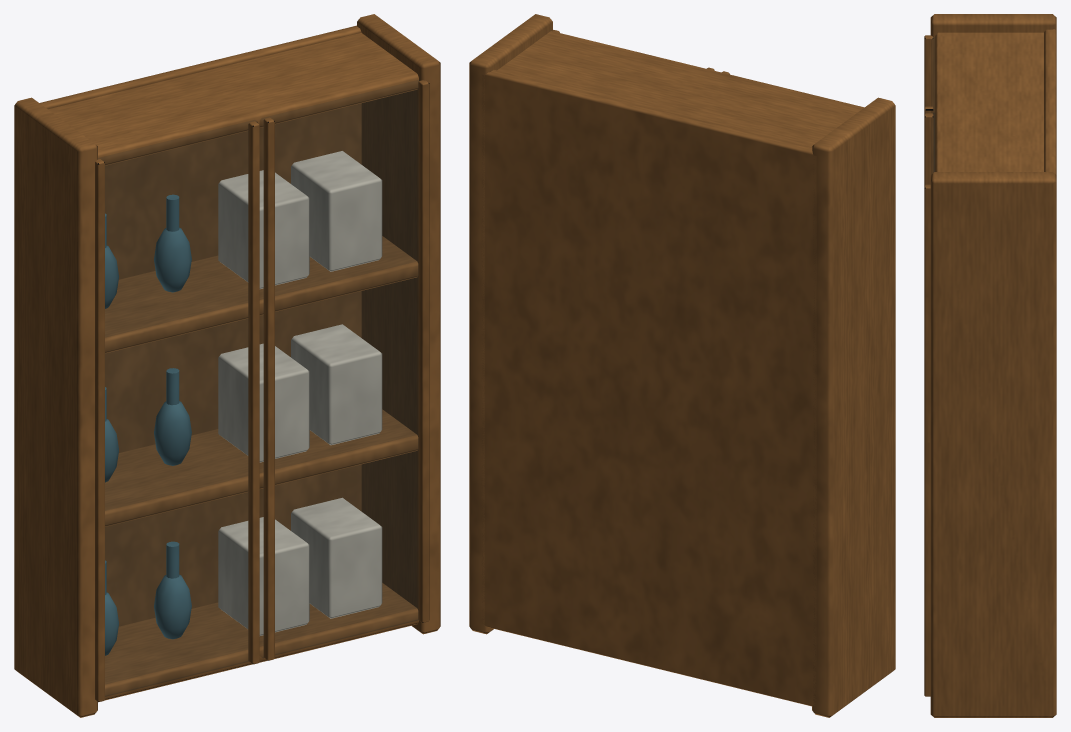
The model's file is Furn_MedicineShelf.fbx.
The picture shows the model from 3 angles, left to right: view 1: azimuth 30°, elevation 25°; view 2: azimuth 150°, elevation 25°; view 3: azimuth 270°, elevation 25°; orthographic projection. The views are drawn at different scales.
Parts seen in each view (by area): view 1: Furn_MedicineShelf_Mesh; view 2: Furn_MedicineShelf_Mesh; view 3: Furn_MedicineShelf_Mesh.
Part boxes in pixels (x1,y1,x2,y2): Furn_MedicineShelf_Mesh: [14, 14, 440, 717]; Furn_MedicineShelf_Mesh: [469, 14, 895, 717]; Furn_MedicineShelf_Mesh: [924, 14, 1056, 717].
Bounding box in the file's own units: 1.2 × 1.8 × 0.4.
Materials: 4 (4 with a texture image).
